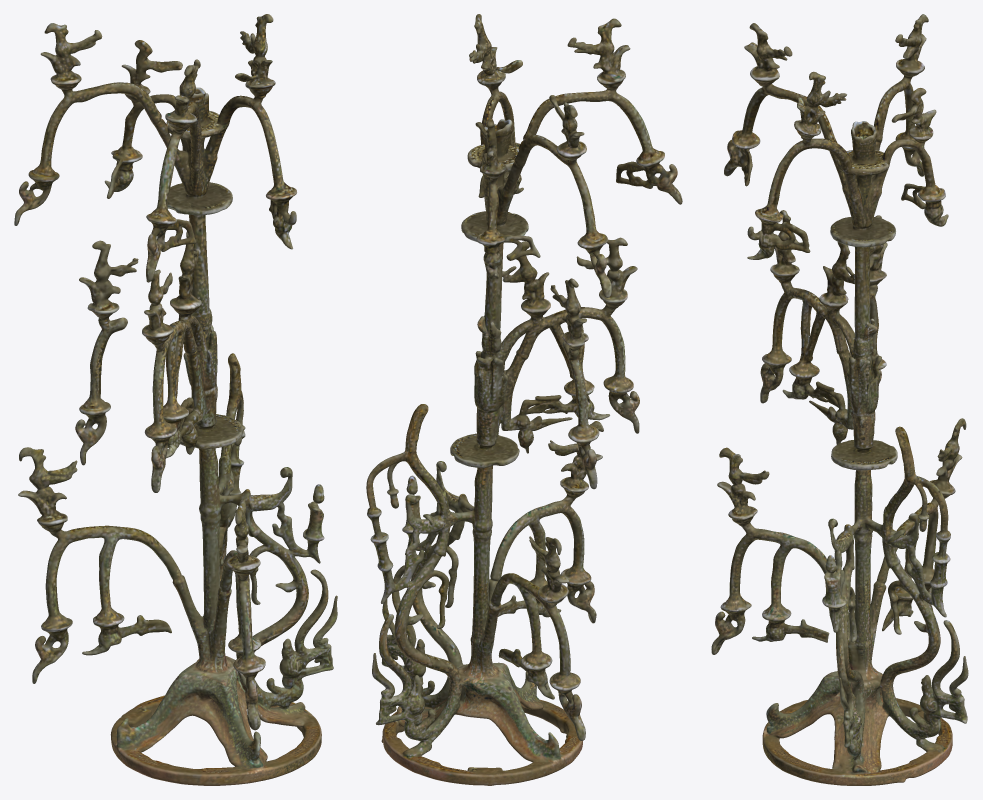
File: QingTongShenShu.glb
3 renders of one model, left to right at view 1: azimuth 30°, elevation 25°; view 2: azimuth 150°, elevation 25°; view 3: azimuth 270°, elevation 25°, orthographic. The views are drawn at different scales.
Parts seen in each view (by area): view 1: node_b49b9bd7-2c1f-4ba4-b347-1891f30db7f2; view 2: node_b49b9bd7-2c1f-4ba4-b347-1891f30db7f2; view 3: node_b49b9bd7-2c1f-4ba4-b347-1891f30db7f2.
Part boxes in pixels (box(x1,y1,x2,y2)): node_b49b9bd7-2c1f-4ba4-b347-1891f30db7f2: box(14, 14, 337, 785); node_b49b9bd7-2c1f-4ba4-b347-1891f30db7f2: box(366, 14, 682, 785); node_b49b9bd7-2c1f-4ba4-b347-1891f30db7f2: box(711, 14, 968, 785).
Bounding box in the file's own units: 0.3959 × 1 × 0.3382.
Materials: 1 (1 with a texture image).
